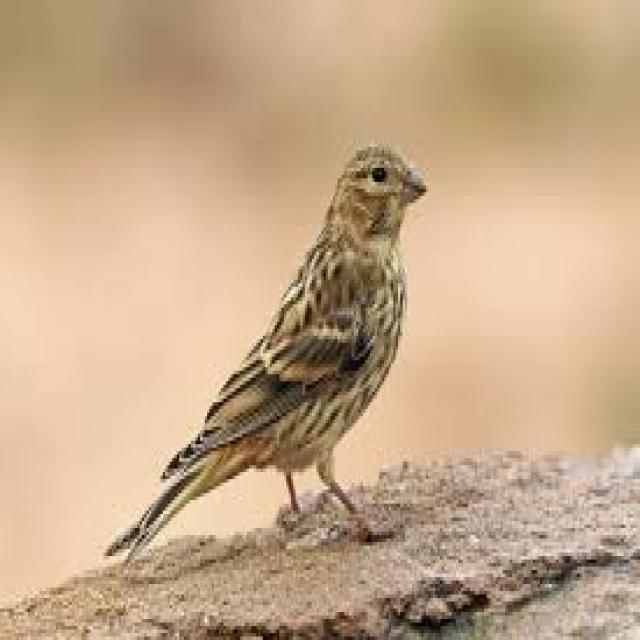bird: (52, 60, 458, 588)
